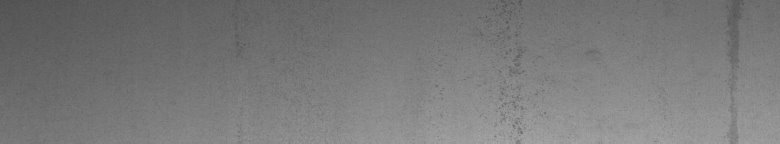ib: (486, 4, 597, 136)
